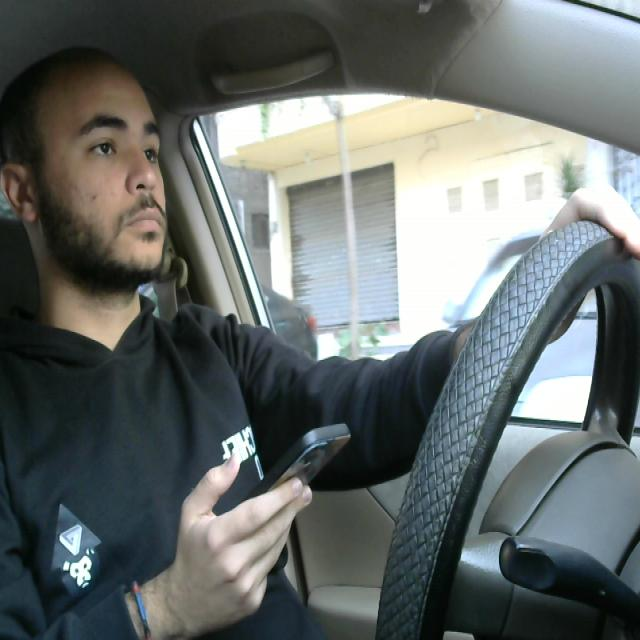mobile use: (226, 421, 352, 558)
